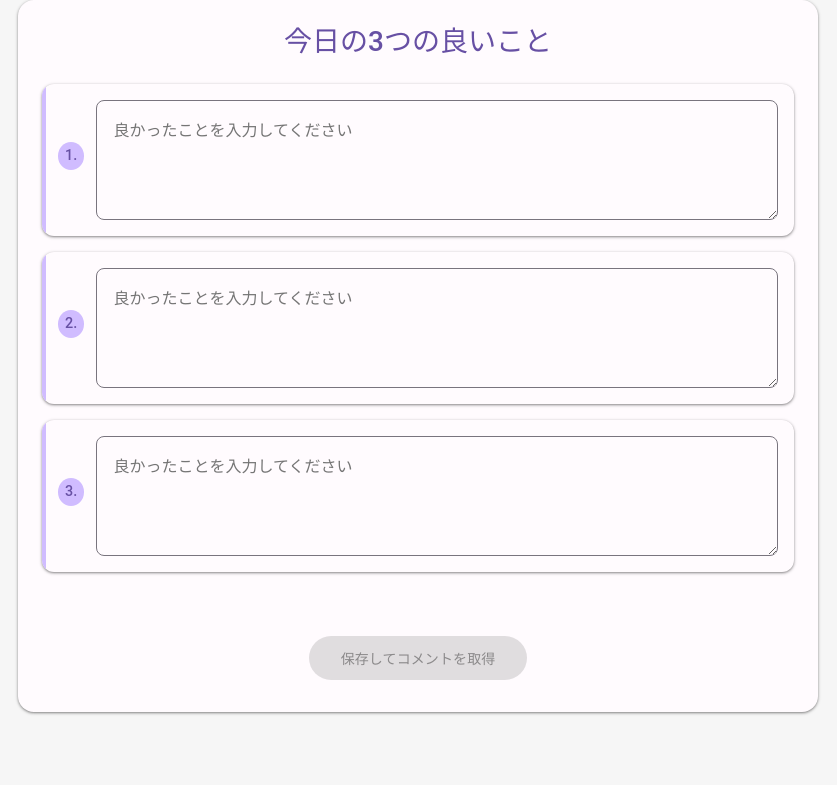
Test: EntryForm コンポーネント › 文字数ぴったりから1文字超えた場合のエラー表示
// 最初は文字数ぎりぎり
In the text box labelled "1.": (437, 160) [96,100,778,220], type "12345"
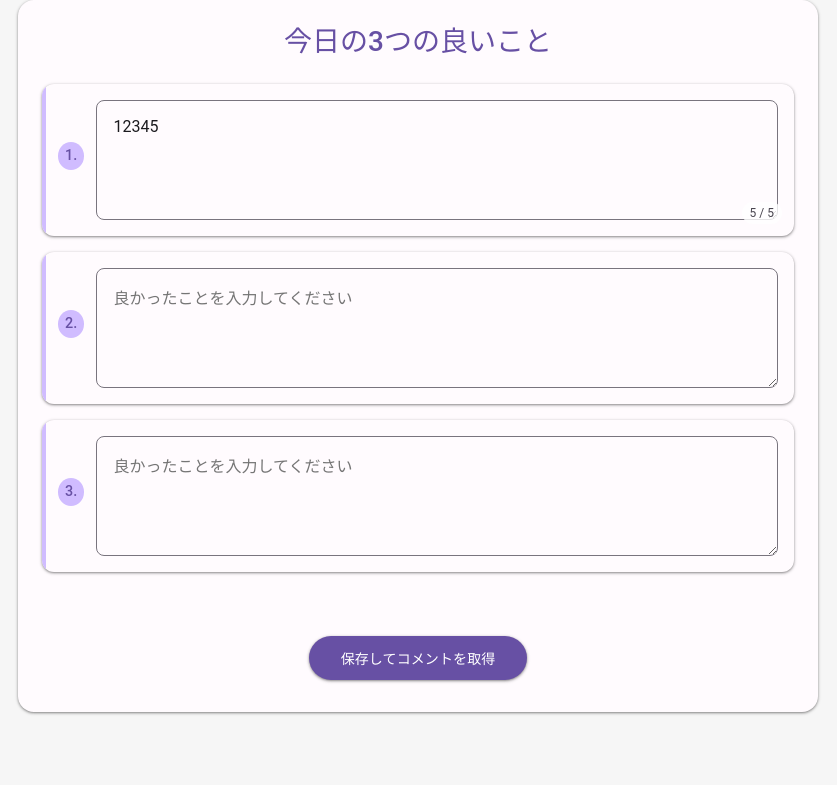
Check: the text "文字以内にしてください" is not shown
// 1文字追加してエラーになることを確認
Replace the text in the text box labelled "1." with "123456": (437, 160) [96,100,778,220]
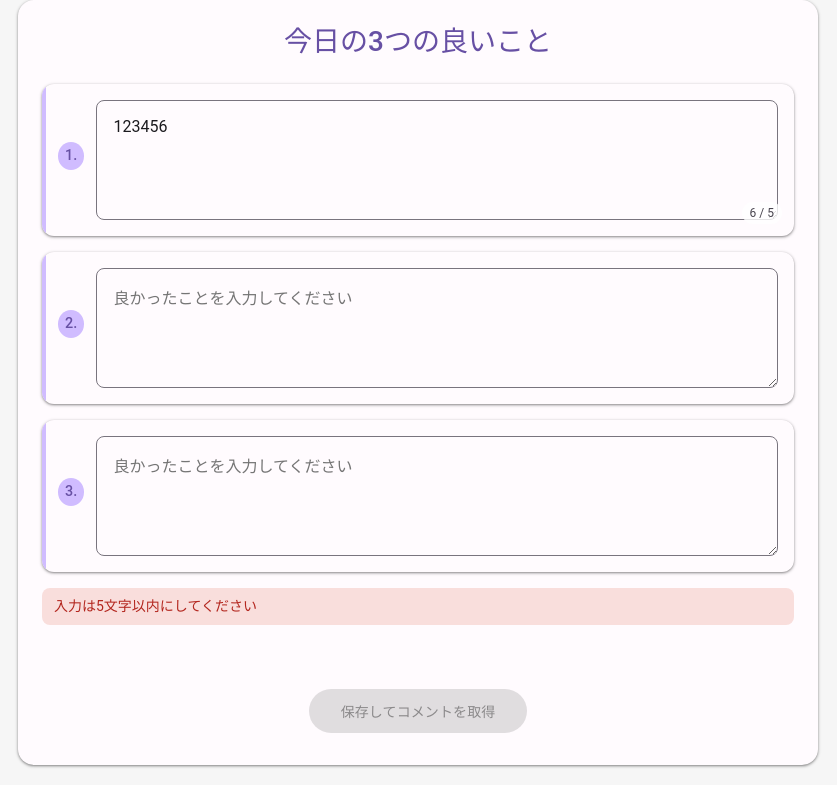
Check: the text "入力は5文字以内にしてください" is shown, box [42,588,794,625]
